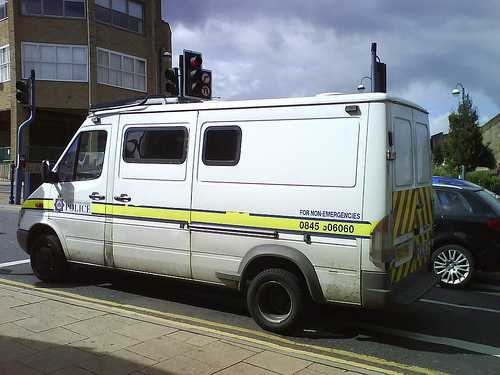Ambulance: (12, 88, 434, 318)
